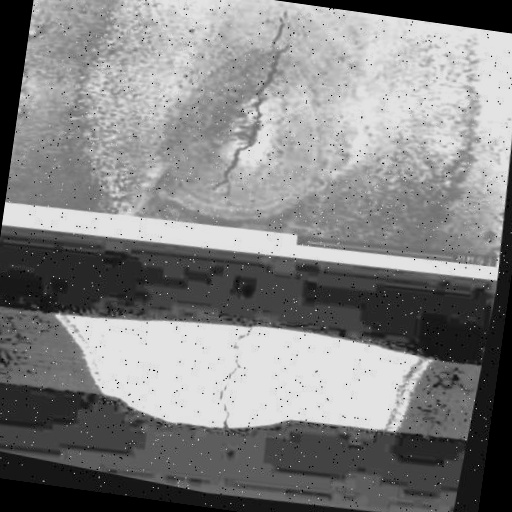crack: (196, 0, 307, 214), (205, 324, 262, 435)
